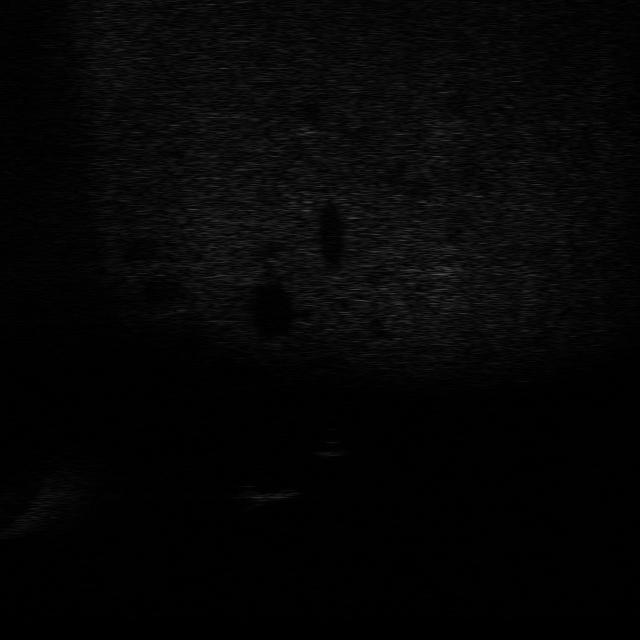ball: (312, 436, 352, 461)
square cage: (232, 478, 296, 514)
